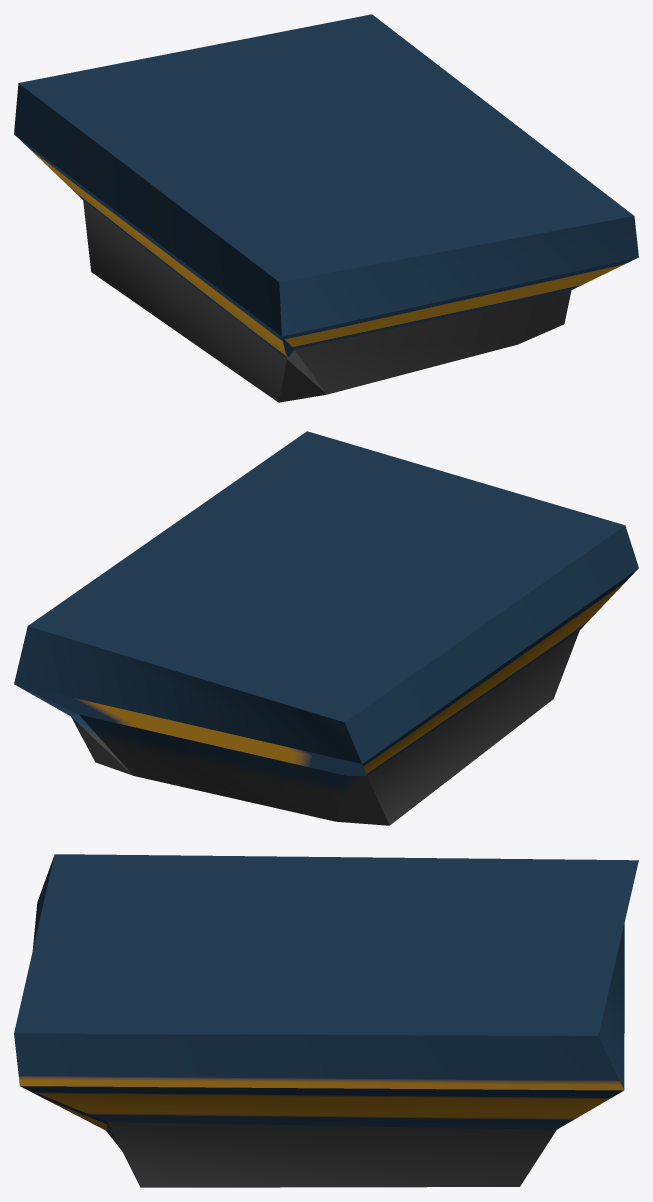
The model's file is body1_army1.obj.
3 renders of one model, top to bottom at view 1: azimuth 30°, elevation 25°; view 2: azimuth 150°, elevation 25°; view 3: azimuth 270°, elevation 25°, orthographic. The views are drawn at different scales.
Parts seen in each view (by area): view 1: Body1; view 2: Body1; view 3: Body1.
Part boxes in pixels (x1,y1,x2,y2): Body1: (14, 14, 638, 402); Body1: (14, 431, 638, 825); Body1: (14, 854, 638, 1187).
Bounding box in the file's own units: 2.91 × 1.33 × 4.15.
Materials: 1 (1 with a texture image).
